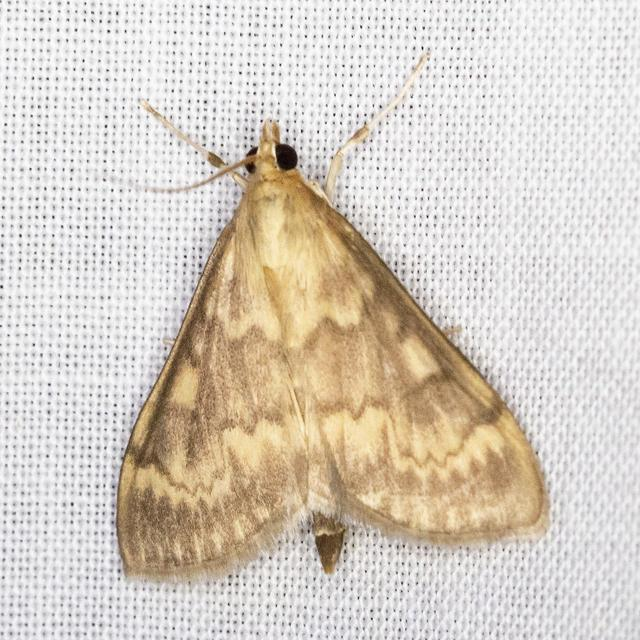cornborer-Adult-: (107, 31, 568, 581)
